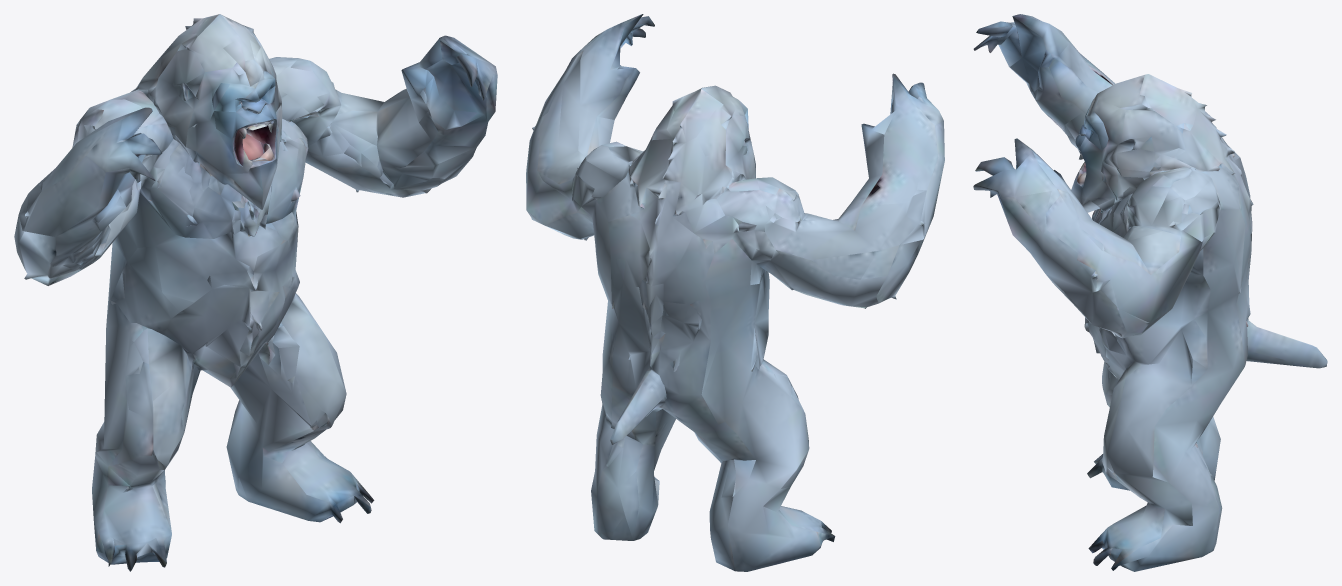
The model's file is yeti.glb.
3 views of the same model, side by side, from view 1: azimuth 30°, elevation 25°; view 2: azimuth 150°, elevation 25°; view 3: azimuth 270°, elevation 25° (orthographic). The views are drawn at different scales.
Visible parts, largest first — view 1: Mesh; view 2: Mesh; view 3: Mesh.
Boxes of the visible parts, left/top/right/bottom form: Mesh: left=14, top=14, right=497, bottom=571; Mesh: left=526, top=14, right=944, bottom=571; Mesh: left=973, top=14, right=1327, bottom=571.
Size of the model in its own units: 1.75 by 1.89 by 1.36.
Materials: 1 (1 with a texture image).
